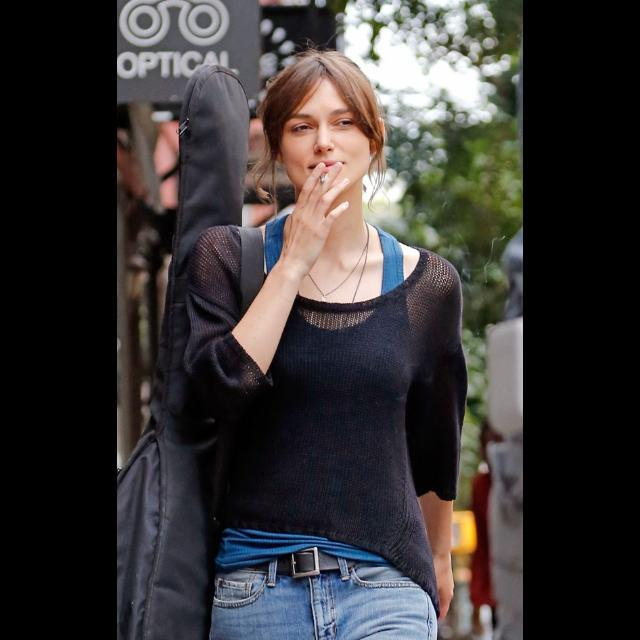rokok: (316, 174, 336, 183)
